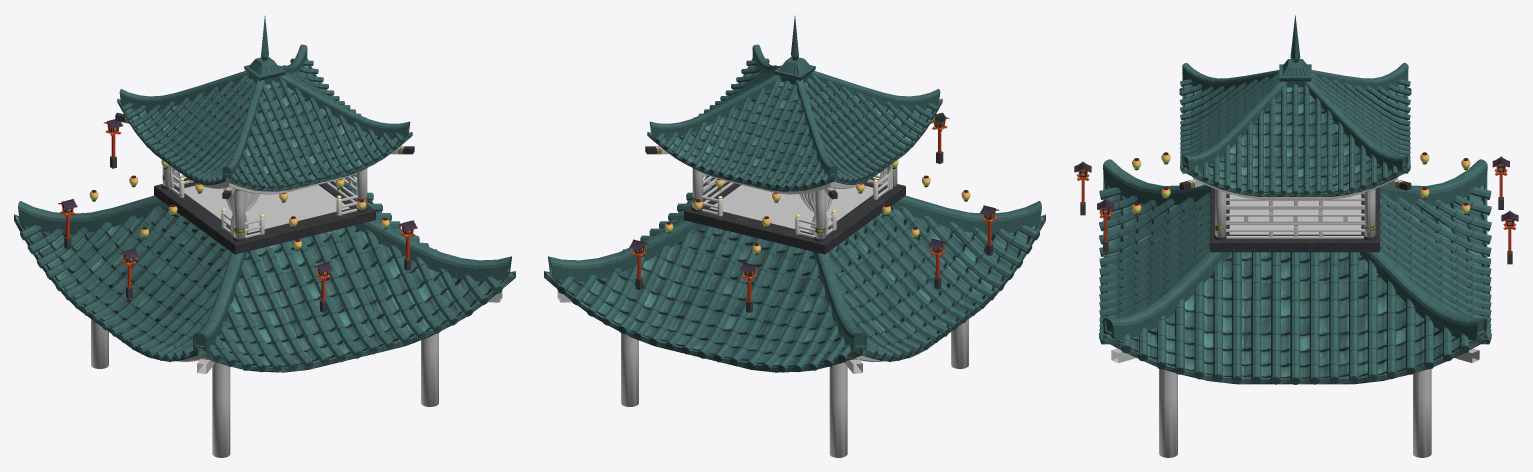
Rendered from bg02_path_t_01out.fbx.
3 renders of one model, left to right at view 1: azimuth 30°, elevation 25°; view 2: azimuth 150°, elevation 25°; view 3: azimuth 270°, elevation 25°, orthographic. The views are drawn at different scales.
Visible parts, largest first — view 1: set_p-geom-P6, set_p-geom-P5, set_p-geom-P7, set_p-geom-P0, set_p-geom-P3, set_p-geom-P11, set_p-geom-P8, set_p-geom-P9, set_p-geom-P2; view 2: set_p-geom-P6, set_p-geom-P5, set_p-geom-P7, set_p-geom-P0, set_p-geom-P3, set_p-geom-P11, set_p-geom-P8, set_p-geom-P9, set_p-geom-P2; view 3: set_p-geom-P6, set_p-geom-P5, set_p-geom-P7, set_p-geom-P0, set_p-geom-P8, set_p-geom-P3, set_p-geom-P11, set_p-geom-P9.
Part boxes in pixels (x1,y1,x2,y2): set_p-geom-P6: (18, 16, 511, 372); set_p-geom-P5: (14, 59, 515, 372); set_p-geom-P7: (27, 117, 502, 457); set_p-geom-P0: (115, 112, 414, 254); set_p-geom-P3: (184, 185, 349, 233); set_p-geom-P11: (58, 119, 417, 312); set_p-geom-P8: (170, 171, 357, 238); set_p-geom-P9: (89, 160, 389, 249); set_p-geom-P2: (168, 165, 260, 236); set_p-geom-P6: (548, 16, 1041, 372); set_p-geom-P5: (544, 59, 1045, 372); set_p-geom-P7: (557, 117, 1032, 457); set_p-geom-P0: (645, 112, 944, 254); set_p-geom-P3: (710, 185, 873, 232); set_p-geom-P11: (629, 116, 999, 312); set_p-geom-P8: (701, 171, 889, 238); set_p-geom-P9: (664, 160, 970, 254); set_p-geom-P2: (799, 165, 892, 235); set_p-geom-P6: (1099, 15, 1491, 384); set_p-geom-P5: (1103, 72, 1487, 384); set_p-geom-P7: (1111, 177, 1479, 457); set_p-geom-P0: (1179, 87, 1411, 252); set_p-geom-P8: (1226, 192, 1364, 238); set_p-geom-P3: (1229, 194, 1361, 234); set_p-geom-P11: (1074, 156, 1518, 264); set_p-geom-P9: (1132, 154, 1470, 213).
Bounding box in the file's own units: 34.77 × 36.31 × 37.76.
